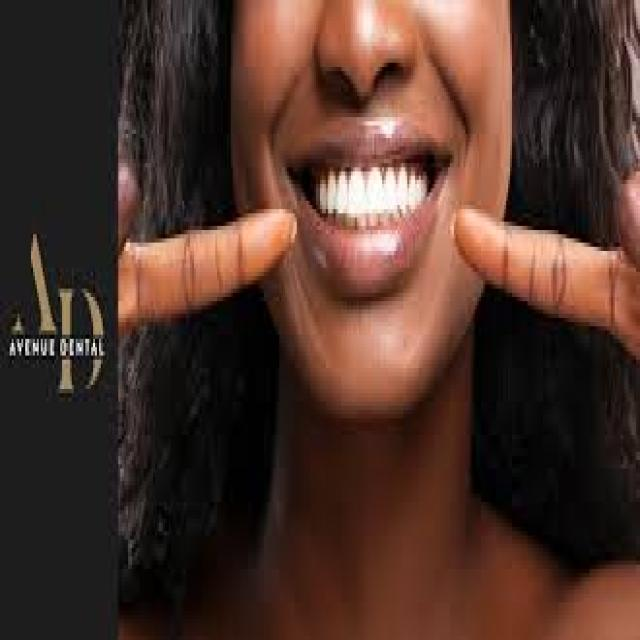tooth: (328, 163, 351, 230), (349, 167, 369, 226), (370, 163, 386, 230), (401, 167, 417, 209), (314, 175, 328, 218), (384, 171, 398, 205)
